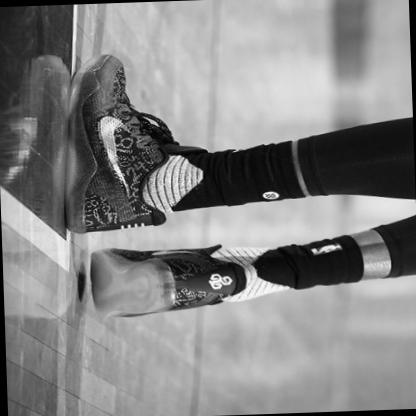ankle: (229, 244, 313, 307), (149, 150, 225, 215)
heel: (56, 188, 136, 240), (159, 259, 224, 303)
left_foot: (50, 43, 203, 241)
pinky: (106, 62, 117, 68)
right_foot: (86, 239, 239, 341)
